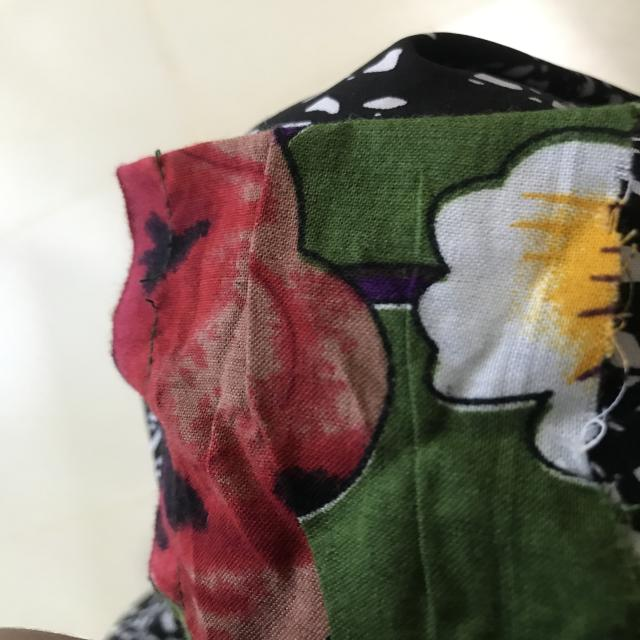broken: (134, 270, 192, 314)
